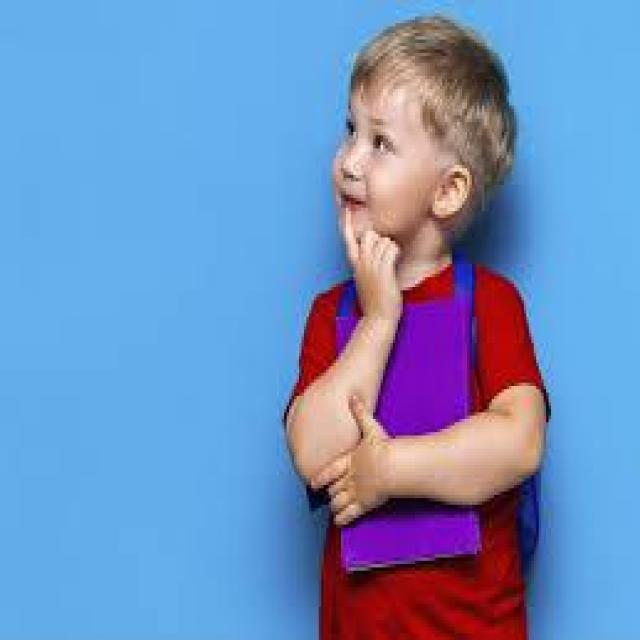person: (257, 16, 566, 634)
